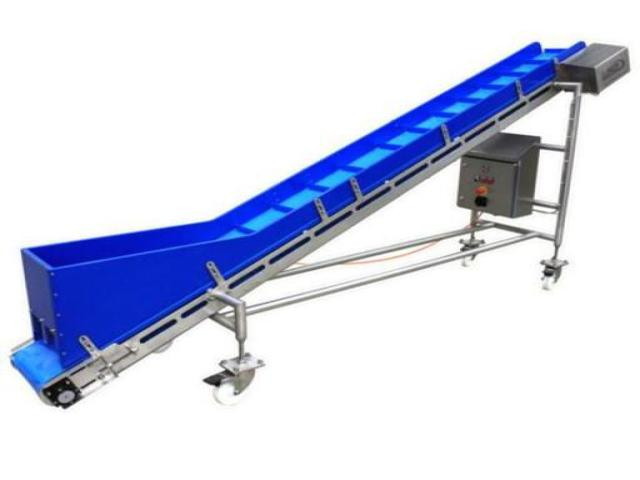conveyor: (5, 36, 631, 412)
